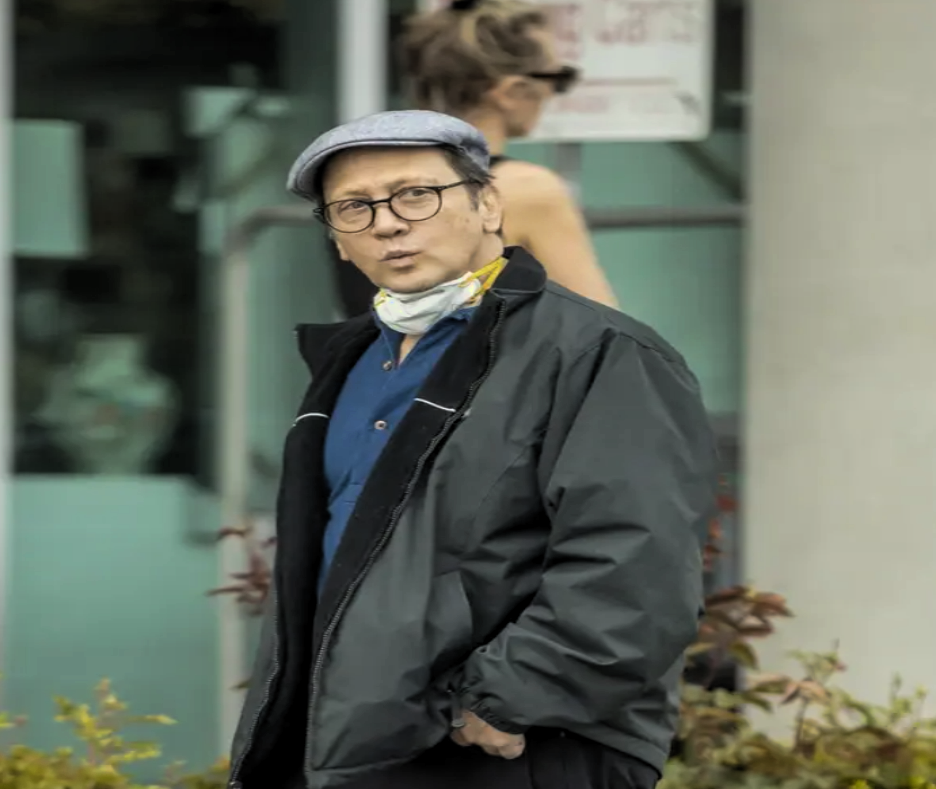mask_weared_incorrect: (284, 104, 527, 339)
